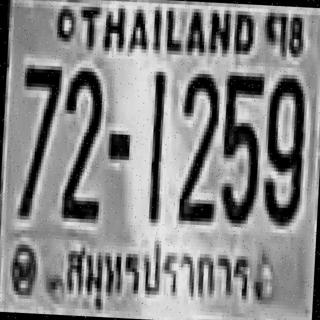N01: (144, 70, 166, 221)
N02: (58, 67, 105, 220), (175, 70, 220, 222), (60, 65, 104, 207)
N05: (218, 72, 262, 221)
N07: (15, 61, 60, 217), (18, 61, 60, 174)
N09: (262, 72, 306, 225)
P57: (59, 238, 262, 318)
